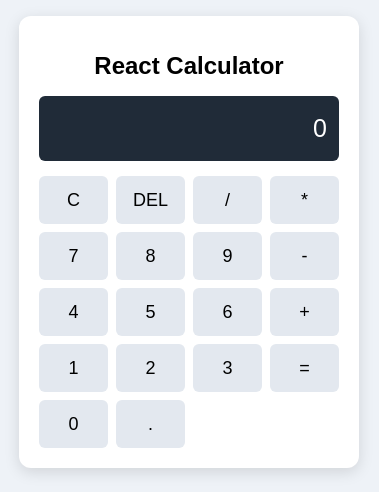
performs subtraction
Click the button "9" at {"x": 228, "y": 256}, box [193,232,262,280]
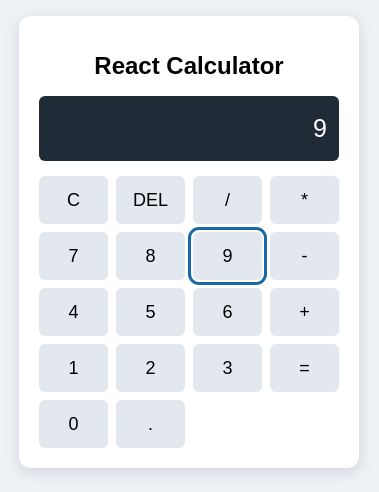
Click the button "-" at {"x": 304, "y": 256}, box [270,232,339,280]
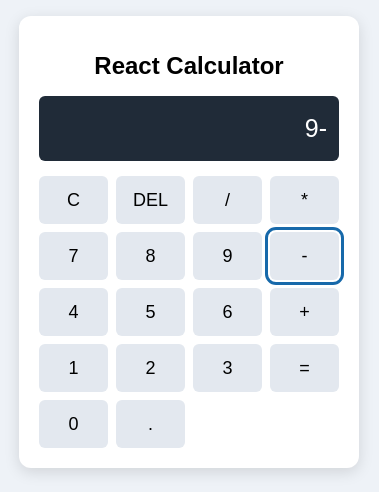
Click the button "4" at {"x": 74, "y": 312}, box [39,288,108,336]
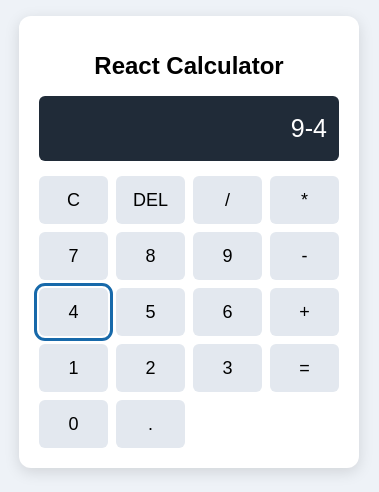
Click the button "=" at {"x": 304, "y": 368}, box [270,344,339,392]
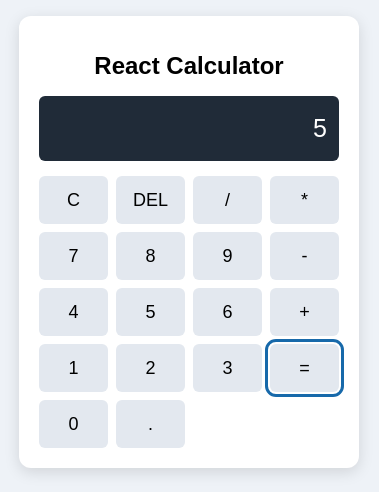
Result: the text with test id "display" reads "5" at [313,114,327,142]
